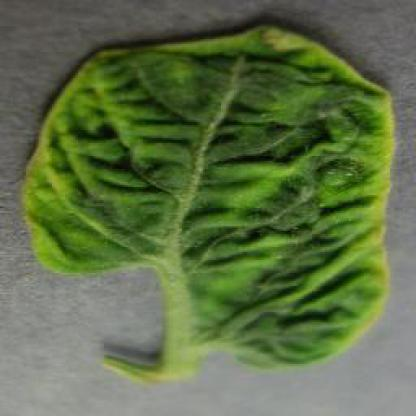bad leaf: (64, 38, 349, 348)
